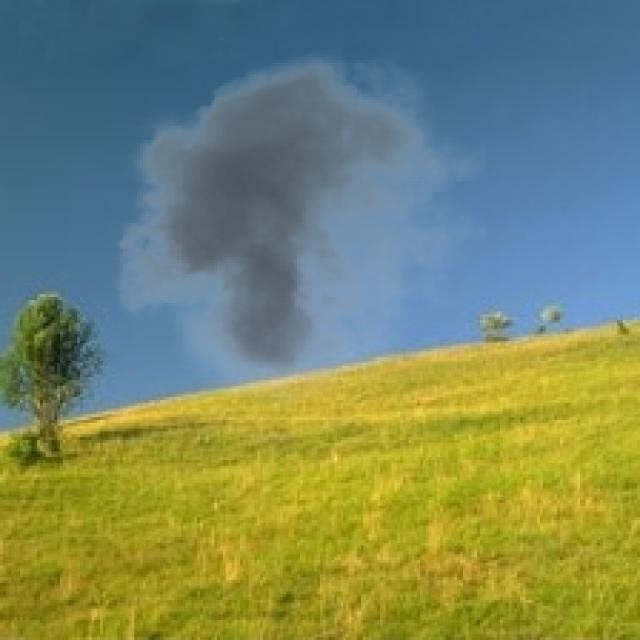Smoke: (97, 37, 489, 406)
